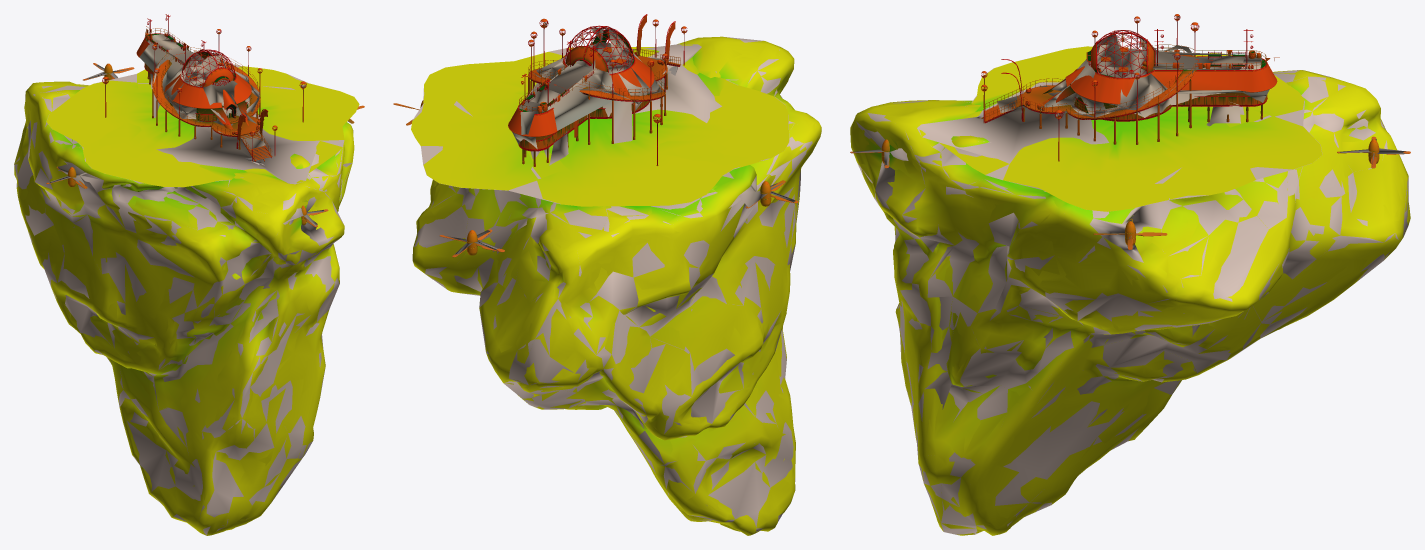
Rendered from StoneKite.glb.
3 views of the same model, side by side, from view 1: azimuth 30°, elevation 25°; view 2: azimuth 150°, elevation 25°; view 3: azimuth 270°, elevation 25° (orthographic). The views are drawn at different scales.
Visible parts, largest first — view 1: L0, L2, L1; view 2: L0, L2, L1; view 3: L0, L2, L1.
Part boxes in pixels (<box>): L0: <box>15,14,364,535</box>; L2: <box>14,28,351,535</box>; L1: <box>14,28,354,535</box>; L0: <box>393,14,821,535</box>; L2: <box>412,22,812,531</box>; L1: <box>407,15,821,535</box>; L0: <box>850,14,1410,535</box>; L2: <box>851,16,1408,534</box>; L1: <box>850,18,1409,535</box>.
Size of the model in its own units: 64.34 by 81.88 by 78.34.
